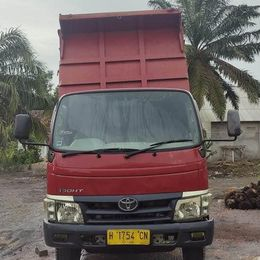plate: (107, 228, 151, 242)
